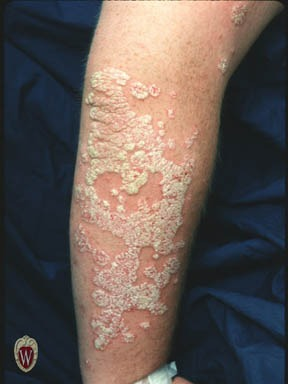Psoriasis: (85, 65, 188, 351)
